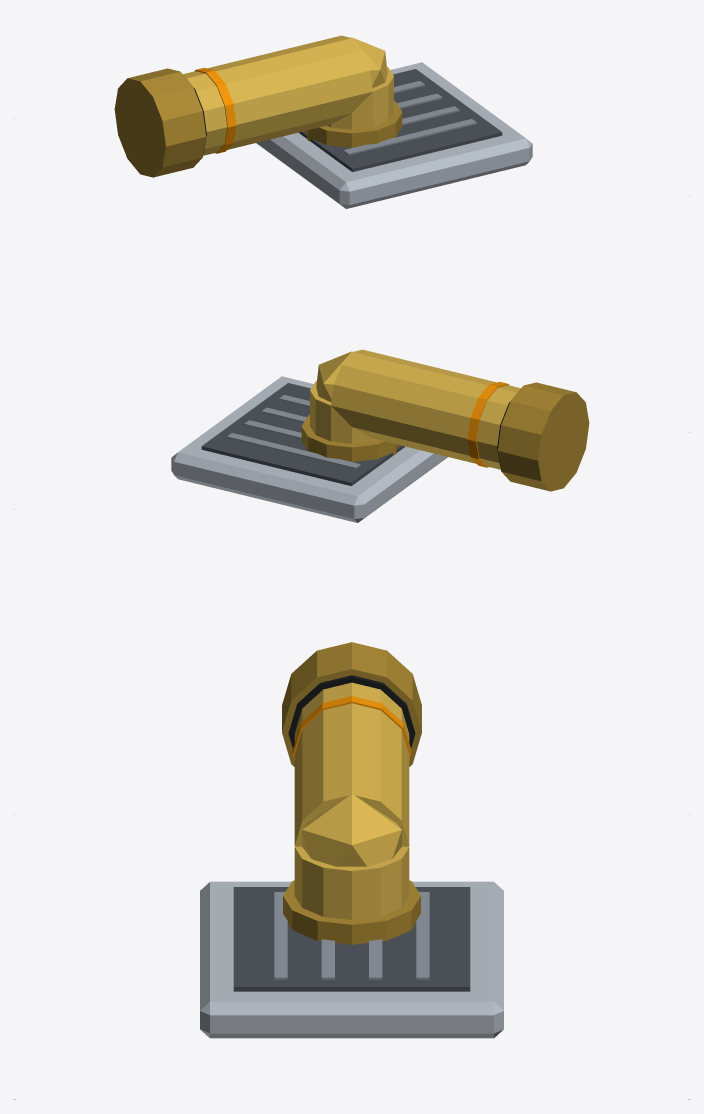
Rendered from tuyau_regard_t2.glb.
3 renders of one model, top to bottom at view 1: azimuth 30°, elevation 25°; view 2: azimuth 150°, elevation 25°; view 3: azimuth 270°, elevation 25°, orthographic. The views are drawn at different scales.
Visible parts, largest first — view 1: pieces_laiton.014, pieces_gris_clair.014, pieces_laiton_sombre.014, pieces_acier_sombre.050, pieces_acier.028, pieces_rive_t2.016; view 2: pieces_laiton.014, pieces_gris_clair.014, pieces_laiton_sombre.014, pieces_acier_sombre.050, pieces_acier.028, pieces_rive_t2.016; view 3: pieces_laiton.014, pieces_gris_clair.014, pieces_acier_sombre.050, pieces_laiton_sombre.014, pieces_acier.028, pieces_noir.022, pieces_rive_t2.016.
Boxes of the visible parts, x1,y1,x2,y2 form: pieces_laiton.014: [183, 35, 393, 155]; pieces_gris_clair.014: [256, 62, 532, 208]; pieces_laiton_sombre.014: [114, 68, 402, 177]; pieces_acier_sombre.050: [299, 69, 502, 171]; pieces_acier.028: [343, 81, 476, 155]; pieces_rive_t2.016: [194, 68, 236, 153]; pieces_laiton.014: [310, 349, 520, 469]; pieces_gris_clair.014: [171, 376, 447, 522]; pieces_laiton_sombre.014: [301, 382, 589, 491]; pieces_acier_sombre.050: [201, 383, 404, 485]; pieces_acier.028: [227, 395, 360, 469]; pieces_rive_t2.016: [467, 382, 509, 467]; pieces_laiton.014: [294, 682, 409, 919]; pieces_gris_clair.014: [200, 881, 503, 1038]; pieces_acier_sombre.050: [233, 887, 470, 991]; pieces_laiton_sombre.014: [282, 642, 421, 944]; pieces_acier.028: [274, 892, 429, 979]; pieces_noir.022: [288, 675, 415, 747]; pieces_rive_t2.016: [292, 696, 411, 760].
Bounding box in the file's own units: 1 × 0.2837 × 1.
